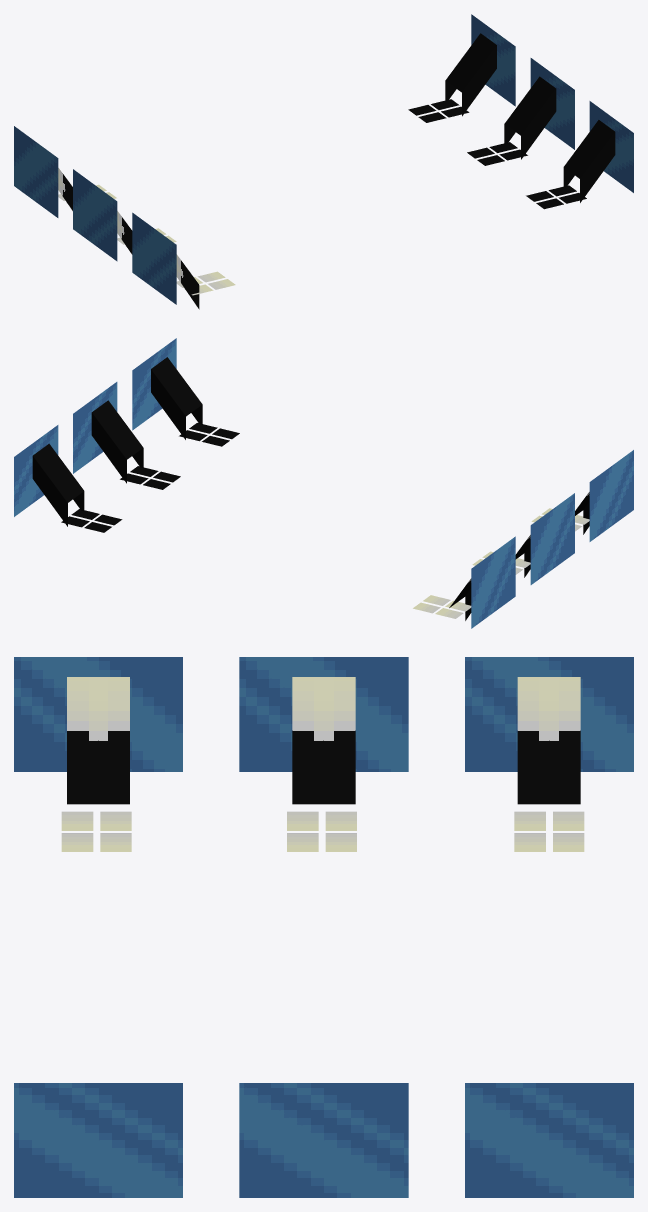
The picture shows the model from 3 angles, top to bottom: view 1: azimuth 30°, elevation 25°; view 2: azimuth 150°, elevation 25°; view 3: azimuth 270°, elevation 25°; orthographic projection. The views are drawn at different scales.
Visible parts, largest first — view 1: polygon1, polygon2, polygon0; view 2: polygon1, polygon2, polygon0; view 3: polygon1, polygon2, polygon0.
Part boxes in pixels (box(x1,y1,x2,y2)): polygon1: box(14, 14, 633, 304); polygon2: box(58, 33, 615, 309); polygon0: box(58, 99, 586, 295); polygon1: box(14, 338, 633, 628); polygon2: box(32, 357, 589, 620); polygon0: box(61, 423, 589, 618); polygon1: box(14, 657, 633, 1197); polygon2: box(67, 677, 580, 804); polygon0: box(61, 811, 584, 851).
Bounding box in the file's own units: 8.94 × 1.57 × 5.5.
Materials: 3 (3 with a texture image).
